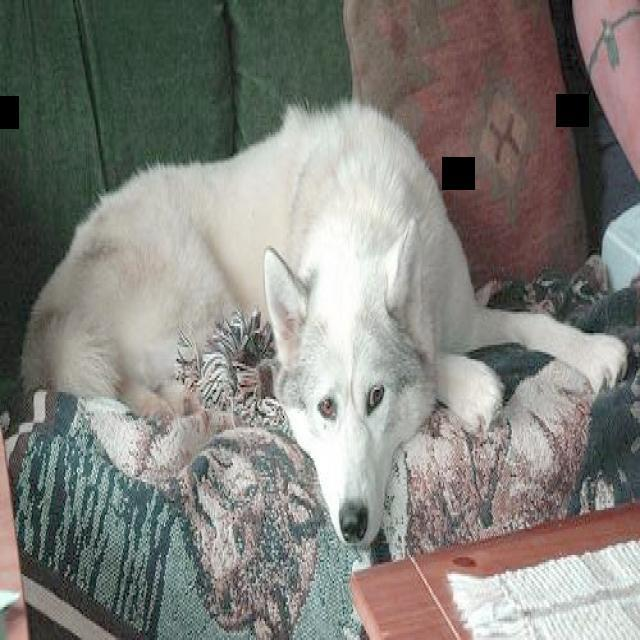adult_dog: (23, 101, 629, 546)
